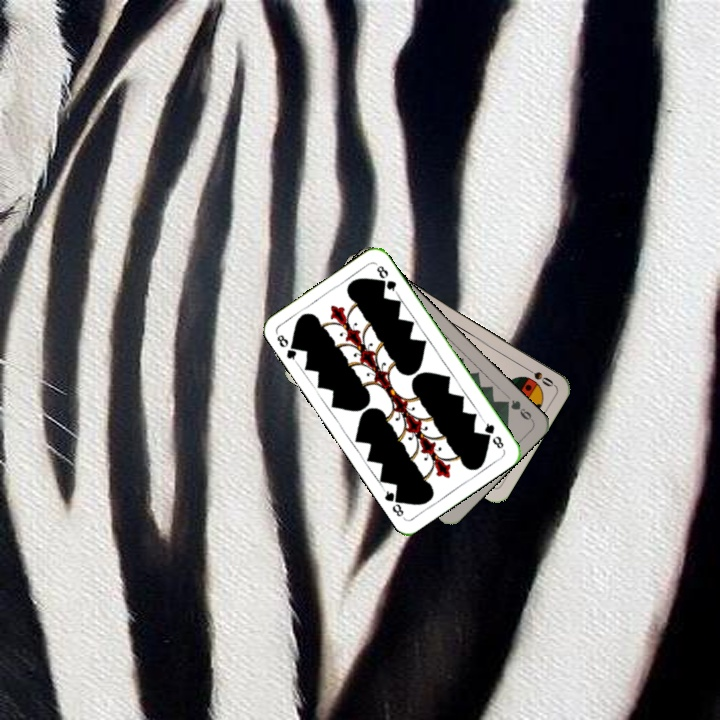G8: (272, 330, 302, 366), (479, 417, 506, 451)
G9: (499, 396, 536, 424)
SO: (520, 362, 556, 389)
